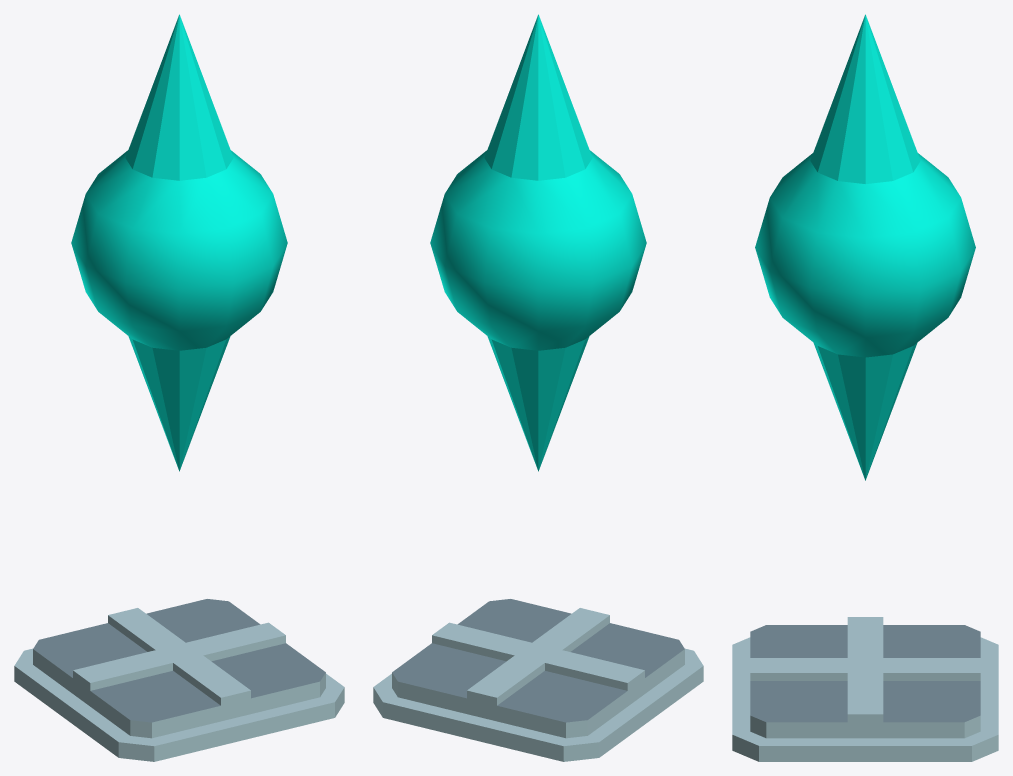
The model's file is lamp-03.fbx.
The picture shows the model from 3 angles, left to right: view 1: azimuth 30°, elevation 25°; view 2: azimuth 150°, elevation 25°; view 3: azimuth 270°, elevation 25°; orthographic projection.
Parts seen in each view (by area): view 1: lamp-03-lamp, lamp-03; view 2: lamp-03-lamp, lamp-03; view 3: lamp-03-lamp, lamp-03.
Part boxes in pixels (left/top/right/bottom): lamp-03-lamp: left=71, top=14, right=287, bottom=471; lamp-03: left=14, top=599, right=344, bottom=761; lamp-03-lamp: left=430, top=14, right=646, bottom=471; lamp-03: left=373, top=599, right=703, bottom=761; lamp-03-lamp: left=755, top=14, right=975, bottom=480; lamp-03: left=732, top=617, right=998, bottom=761.
Size of the model in its own units: 30 by 86.06 by 30.
